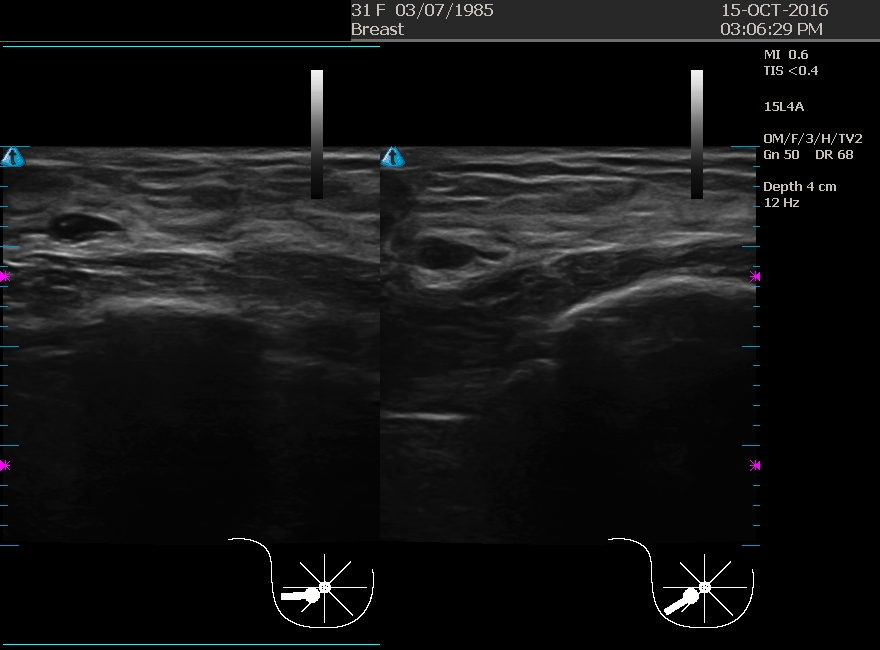BIRADS_2: (30, 153, 230, 353), (384, 172, 584, 372)
